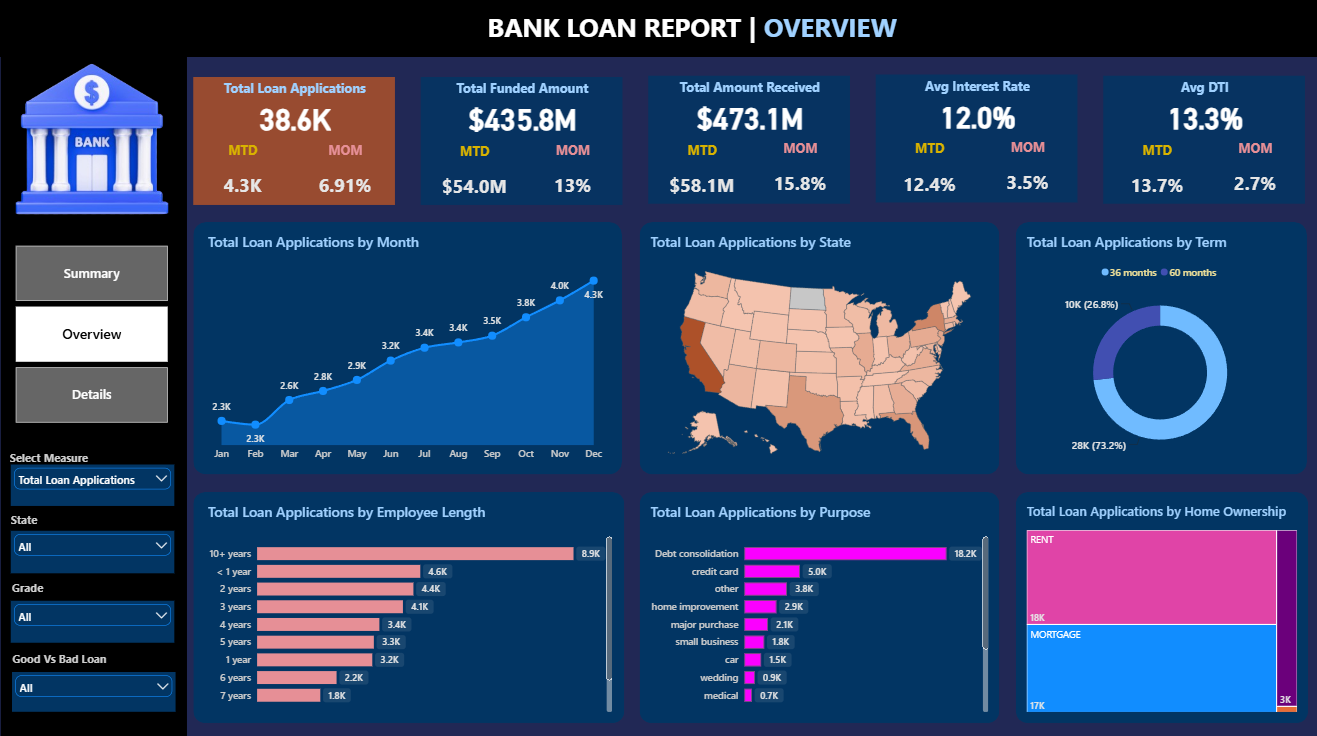

The dashboard page shown, as its layout file describes it:
{"tool":"powerbi","page":{"name":"Overview","canvas":[1920,1080],"ordinal":1},"visuals":[{"type":"shape","box":[1272.6,112.2,292.2,185.2],"z":0,"group":"g4"},{"type":"shape","box":[943.7,114,292.2,185.2],"z":0,"group":"g3"},{"type":"shape","box":[1601.5,114,292.2,185.2],"z":0,"group":"g5"},{"type":"shape","box":[284.1,115.8,292.2,185.2],"z":0,"group":"g1"},{"type":"shape","box":[613,115.8,292.2,185.2],"z":0,"group":"g2"},{"type":"shape","box":[284.1,325.7,620.7,365.6],"z":0},{"type":"slicer","fields":{"Values":["bank_loan_data.grade"]},"box":[19.9,874.8,237.1,60.8],"z":0,"group":"g7"},{"type":"slicer","fields":{"Values":["bank_loan_data.Good Vs Bad Loan"]},"box":[21.4,977.2,237.1,57.3],"z":0,"group":"g10"},{"type":"shape","box":[0,0,1920.1,86.9],"z":1000},{"type":"cardVisual","fields":{"Data":["bank_loan_data.Avg Intrest Rate"]},"box":[1324.5,145.3,190.5,59.5],"z":1000,"group":"g4"},{"type":"cardVisual","fields":{"Data":["bank_loan_data.Total Amount Received"]},"box":[995.6,147.1,190.5,59.5],"z":1000,"group":"g3"},{"type":"cardVisual","fields":{"Data":["bank_loan_data.Avg DTI"]},"box":[1653.4,147.1,190.5,59.5],"z":1000,"group":"g5"},{"type":"cardVisual","fields":{"Data":["bank_loan_data.Total Loan Applications"]},"box":[336,148.9,190.5,59.5],"z":1000,"group":"g1"},{"type":"cardVisual","fields":{"Data":["bank_loan_data.Total Funded Amount"]},"box":[664.9,148.9,190.5,59.5],"z":1000,"group":"g2"},{"type":"textbox","box":[14.5,843.3,59.7,31.5],"z":1000,"group":"g7"},{"type":"textbox","box":[19.9,946.5,141.2,25.7],"z":1000,"group":"g10"},{"type":"shape","box":[5.4,86.9,269.6,993.5],"z":2000},{"type":"textbox","box":[1272.6,116.6,294.3,28.7],"z":2000,"group":"g4"},{"type":"textbox","box":[943.7,118.4,294.3,28.7],"z":2000,"group":"g3"},{"type":"textbox","box":[1601.5,118.4,294.3,28.7],"z":2000,"group":"g5"},{"type":"textbox","box":[284.1,120.2,294.3,28.7],"z":2000,"group":"g1"},{"type":"textbox","box":[613,120.2,294.3,28.7],"z":2000,"group":"g2"},{"type":"group","id":"g1","title":"Group 1","box":[284.1,115.8,293.2,186.4],"z":3000},{"type":"cardVisual","title":"MTD","fields":{"Data":["bank_loan_data.MTD Avg Intrest Rate"]},"box":[1287.9,206.4,127.6,86.4],"z":3000,"group":"g4"},{"type":"cardVisual","title":"MTD","fields":{"Data":["bank_loan_data.MTD Total Amount Recieved"]},"box":[959,208.2,127.6,86.4],"z":3000,"group":"g3"},{"type":"cardVisual","title":"MTD","fields":{"Data":["bank_loan_data.MTD Avg DTI"]},"box":[1616.8,208.2,127.6,86.4],"z":3000,"group":"g5"},{"type":"cardVisual","title":"MTD","fields":{"Data":["bank_loan_data.MTD Loan Applications"]},"box":[299.2,208.4,114.7,83.8],"z":3000,"group":"g1"},{"type":"cardVisual","title":"MTD","fields":{"Data":["bank_loan_data.MTD Funded Amount"]},"box":[628.3,210,127.6,86.4],"z":3000,"group":"g2"},{"type":"textbox","box":[10.9,655.1,128.5,21.6],"z":3000,"group":"g9"},{"type":"group","id":"g2","title":"Group 1","box":[613,115.8,295,186.4],"z":4000},{"type":"cardVisual","title":"MOM","fields":{"Data":["bank_loan_data.MOM Avg Intrest Rate"]},"box":[1434.9,204.8,114.7,83.8],"z":4000,"group":"g4"},{"type":"cardVisual","title":"MOM","fields":{"Data":["bank_loan_data.MOM Total Recieved Amount"]},"box":[1106,206.6,114.7,83.8],"z":4000,"group":"g3"},{"type":"cardVisual","title":"MOM","fields":{"Data":["bank_loan_data.MOM Avg DTI"]},"box":[1763.8,206.6,114.7,83.8],"z":4000,"group":"g5"},{"type":"cardVisual","title":"MOM","fields":{"Data":["bank_loan_data.MOM Loan Applications"]},"box":[446.4,208.4,114.7,83.8],"z":4000,"group":"g1"},{"type":"cardVisual","title":"MOM","fields":{"Data":["bank_loan_data.MOM Total Funded Amount"]},"box":[775.3,208.4,114.7,83.8],"z":4000,"group":"g2"},{"type":"textbox","box":[19.9,745.6,45.2,27.4],"z":4000,"group":"g6"},{"type":"group","id":"g3","title":"Group 1","box":[943.7,114,293.2,186.4],"z":5000},{"type":"group","id":"g4","title":"Group 1","box":[1272.6,112.2,293.2,186.4],"z":6000},{"type":"group","id":"g5","title":"Group 1","box":[1601.5,114,295,186.4],"z":7000},{"type":"shape","box":[930.2,325.7,521.2,365.6],"z":8000},{"type":"textbox","box":[0,18.1,1920.1,50.7],"z":9000},{"type":"group","id":"g6","title":"Group 2","box":[19.9,745.6,237.1,88.7],"z":10000},{"type":"group","id":"g7","title":"Group 3","box":[14.5,843.3,242.5,92.3],"z":11000},{"type":"group","id":"g8","title":"Group 4","box":[19.9,946.5,238.9,88.7],"z":12000},{"type":"areaChart","fields":{"Category":["Date Table.Month"],"Y":["bank_loan_data.Total Loan Applications"]},"box":[289.5,325.7,609.9,365.6],"z":13000},{"type":"group","id":"g9","title":"Group 5","box":[10.9,655.1,246.1,81.4],"z":14000},{"type":"shapeMap","fields":{"Category":["bank_loan_data.address_state"],"Value":["bank_loan_data.Total Loan Applications"]},"box":[930.2,325.7,521.2,365.6],"z":15000},{"type":"slicer","fields":{"Values":["Select Measure.Select Measure"]},"box":[19.9,676.7,237.1,59.8],"z":15000,"group":"g9"},{"type":"shape","box":[1474.9,325.7,421.7,365.6],"z":16000},{"type":"donutChart","fields":{"Category":["bank_loan_data.term"],"Y":["bank_loan_data.Total Loan Applications"]},"box":[1474.9,325.7,418,365.6],"z":17000},{"type":"shape","box":[284.1,716.6,624.3,334.8],"z":18000},{"type":"shape","box":[930.2,716.6,521.2,334.8],"z":19000},{"type":"shape","box":[1474.9,716.6,423.5,334.8],"z":20000},{"type":"barChart","fields":{"Category":["bank_loan_data.emp_length"],"Y":["bank_loan_data.Total Loan Applications"]},"box":[289.5,716.6,617.1,334.8],"z":21000},{"type":"group","id":"g10","title":"Group 6","box":[19.9,946.5,238.6,87.9],"z":21003,"group":"g8"},{"type":"barChart","fields":{"Category":["bank_loan_data.purpose"],"Y":["bank_loan_data.Total Loan Applications"]},"box":[930.2,716.6,521.2,334.8],"z":22000},{"type":"slicer","fields":{"Values":["bank_loan_data.address_state"]},"box":[19.9,773,237.1,61.2],"z":22000,"group":"g6"},{"type":"treemap","fields":{"Group":["bank_loan_data.home_ownership"],"Values":["bank_loan_data.Total Loan Applications"]},"box":[1474.9,716.6,423.5,334.8],"z":23000},{"type":"image","box":[27.1,85.1,220.8,238.9],"z":25000},{"type":"pageNavigator","box":[27.1,360.1,220.8,257],"z":25001}]}

Visuals, with their boxes in screenshot pixels (x1, y1, x2, y2), scaled from the page's 1920x1080 canvas onto the 1317x736 screenshot:
shape: rect(873, 76, 1073, 203)
shape: rect(647, 78, 848, 204)
shape: rect(1099, 78, 1299, 204)
shape: rect(195, 79, 395, 205)
shape: rect(420, 79, 621, 205)
shape: rect(195, 222, 621, 471)
slicer - bank_loan_data.grade: rect(14, 596, 176, 638)
slicer - bank_loan_data.Good Vs Bad Loan: rect(15, 666, 177, 705)
shape: rect(0, 0, 1316, 59)
cardVisual - bank_loan_data.Avg Intrest Rate: rect(909, 99, 1039, 140)
cardVisual - bank_loan_data.Total Amount Received: rect(683, 100, 814, 141)
cardVisual - bank_loan_data.Avg DTI: rect(1134, 100, 1265, 141)
cardVisual - bank_loan_data.Total Loan Applications: rect(230, 101, 361, 142)
cardVisual - bank_loan_data.Total Funded Amount: rect(456, 101, 587, 142)
textbox: rect(10, 575, 51, 596)
textbox: rect(14, 645, 111, 663)
shape: rect(4, 59, 189, 735)
textbox: rect(873, 79, 1075, 99)
textbox: rect(647, 81, 849, 100)
textbox: rect(1099, 81, 1300, 100)
textbox: rect(195, 82, 397, 101)
textbox: rect(420, 82, 622, 101)
"Group 1" group: rect(195, 79, 396, 206)
"MTD" cardVisual: rect(883, 141, 971, 200)
"MTD" cardVisual: rect(658, 142, 745, 201)
"MTD" cardVisual: rect(1109, 142, 1197, 201)
"MTD" cardVisual: rect(205, 142, 284, 199)
"MTD" cardVisual: rect(431, 143, 519, 202)
textbox: rect(7, 446, 96, 461)
"Group 1" group: rect(420, 79, 623, 206)
"MOM" cardVisual: rect(984, 140, 1063, 197)
"MOM" cardVisual: rect(759, 141, 837, 198)
"MOM" cardVisual: rect(1210, 141, 1289, 198)
"MOM" cardVisual: rect(306, 142, 385, 199)
"MOM" cardVisual: rect(532, 142, 610, 199)
textbox: rect(14, 508, 45, 527)
"Group 1" group: rect(647, 78, 848, 205)
"Group 1" group: rect(873, 76, 1074, 203)
"Group 1" group: rect(1099, 78, 1301, 205)
shape: rect(638, 222, 996, 471)
textbox: rect(0, 12, 1316, 47)
"Group 2" group: rect(14, 508, 176, 569)
"Group 3" group: rect(10, 575, 176, 638)
"Group 4" group: rect(14, 645, 178, 705)
areaChart - Date Table.Month x bank_loan_data.Total Loan Applications: rect(199, 222, 617, 471)
"Group 5" group: rect(7, 446, 176, 502)
shapeMap - bank_loan_data.address_state x bank_loan_data.Total Loan Applications: rect(638, 222, 996, 471)
slicer - Select Measure.Select Measure: rect(14, 461, 176, 502)
shape: rect(1012, 222, 1301, 471)
donutChart - bank_loan_data.term x bank_loan_data.Total Loan Applications: rect(1012, 222, 1298, 471)
shape: rect(195, 488, 623, 717)
shape: rect(638, 488, 996, 717)
shape: rect(1012, 488, 1302, 717)
barChart - bank_loan_data.emp_length x bank_loan_data.Total Loan Applications: rect(199, 488, 622, 717)
"Group 6" group: rect(14, 645, 177, 705)
barChart - bank_loan_data.purpose x bank_loan_data.Total Loan Applications: rect(638, 488, 996, 717)
slicer - bank_loan_data.address_state: rect(14, 527, 176, 568)
treemap - bank_loan_data.home_ownership x bank_loan_data.Total Loan Applications: rect(1012, 488, 1302, 717)
image: rect(19, 58, 170, 221)
pageNavigator: rect(19, 245, 170, 421)
